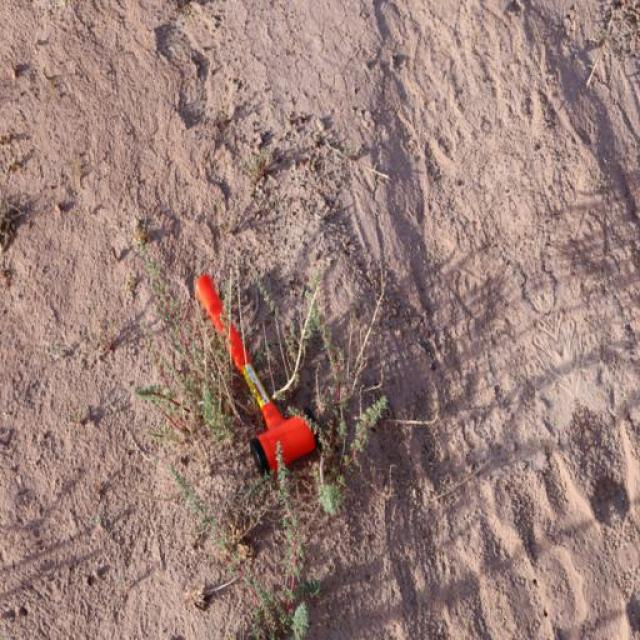mallet: (192, 272, 318, 476)
